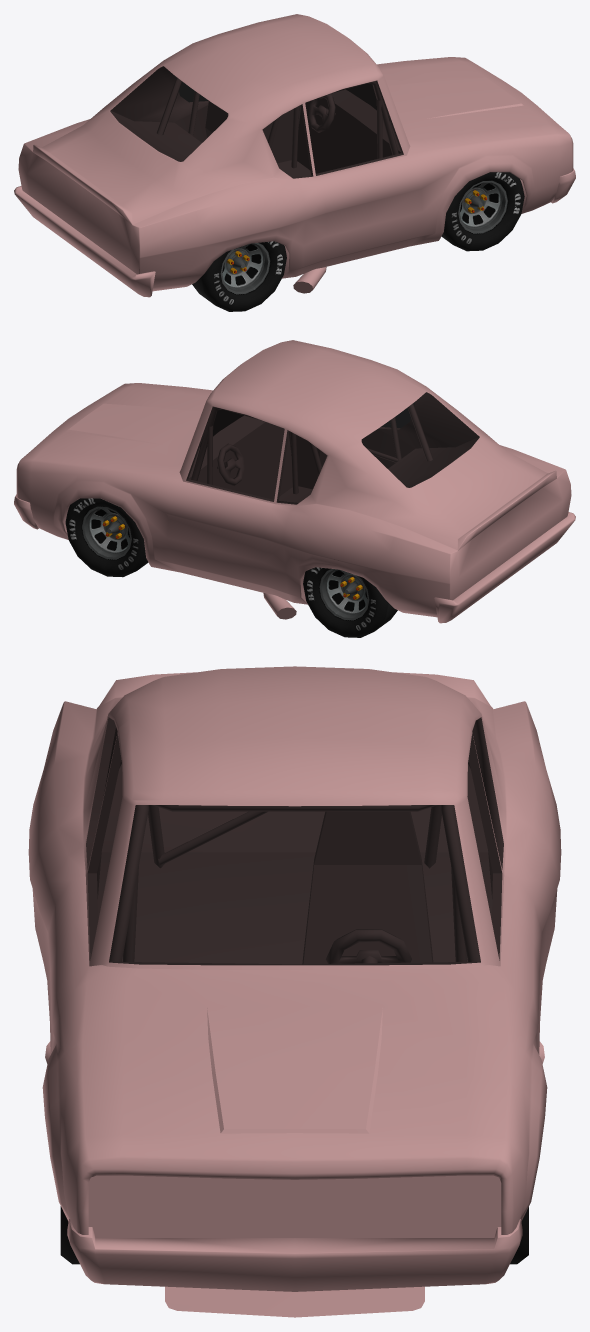
The picture shows the model from 3 angles, top to bottom: view 1: azimuth 30°, elevation 25°; view 2: azimuth 150°, elevation 25°; view 3: azimuth 270°, elevation 25°; orthographic projection. The views are drawn at different scales.
Parts seen in each view (by area): view 1: CarBody, Glass, TireFrontR, TireRearR; view 2: CarBody, Glass, TireFrontL, TireRearL; view 3: CarBody, Glass.
Part boxes in pixels (box(x1,y1,x2,y2)): CarBody: box(14, 14, 575, 297); Glass: box(110, 66, 403, 178); TireFrontR: box(441, 172, 524, 251); TireRearR: box(192, 241, 286, 311); CarBody: box(14, 340, 575, 623); Glass: box(186, 392, 479, 504); TireFrontL: box(65, 498, 148, 577); TireRearL: box(303, 567, 397, 637); CarBody: box(28, 666, 561, 1317); Glass: box(86, 717, 503, 965).
Size of the model in its own units: 256 by 105 by 130.
